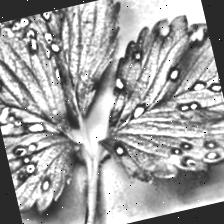Leaf Spot: (74, 10, 224, 194), (0, 0, 148, 140), (0, 14, 96, 219)
